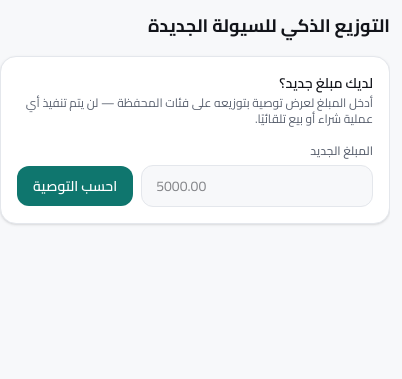
it: InflowPage › shows a clear error state when the portfolio is not configured
Type "500" into the field with placeholder "5000.00" at (257, 186), box [141,165,373,207]
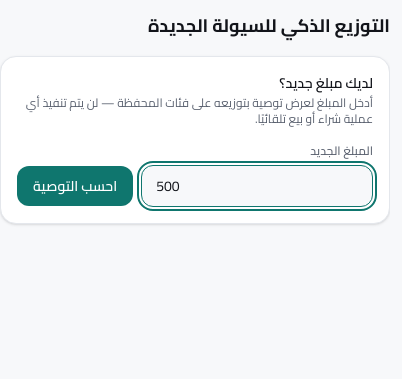
Click the button "احسب التوصية" at (75, 186), box [17,166,133,206]
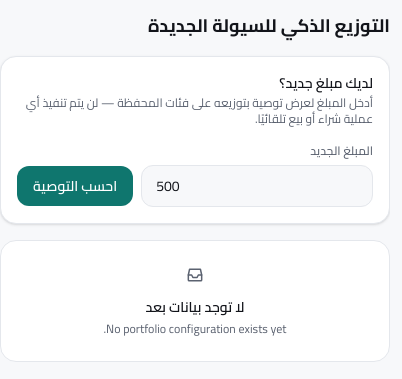
Expected: the text "لا توجد بيانات بعد" is shown, [146,294,244,320]
